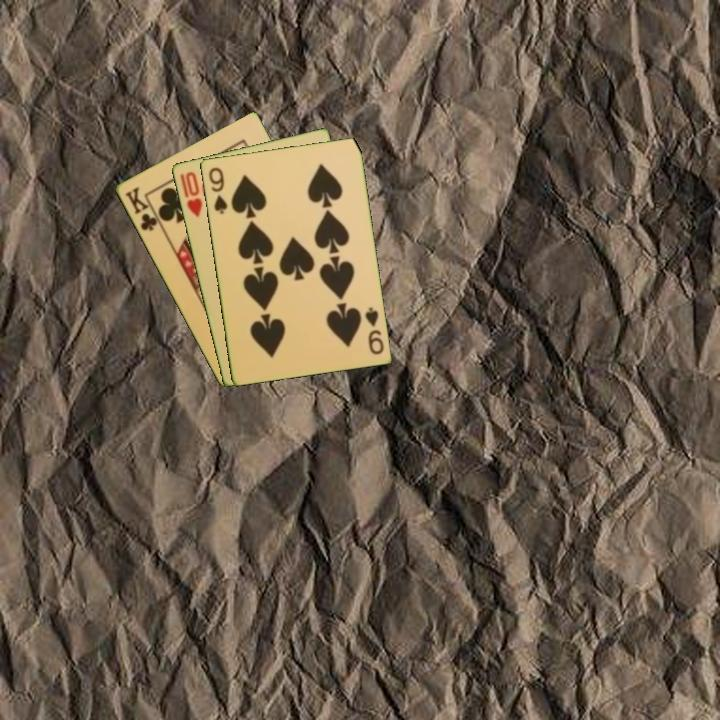10h: (181, 168, 205, 220)
9s: (205, 163, 230, 217), (361, 304, 386, 357)
Kc: (121, 183, 164, 234)
